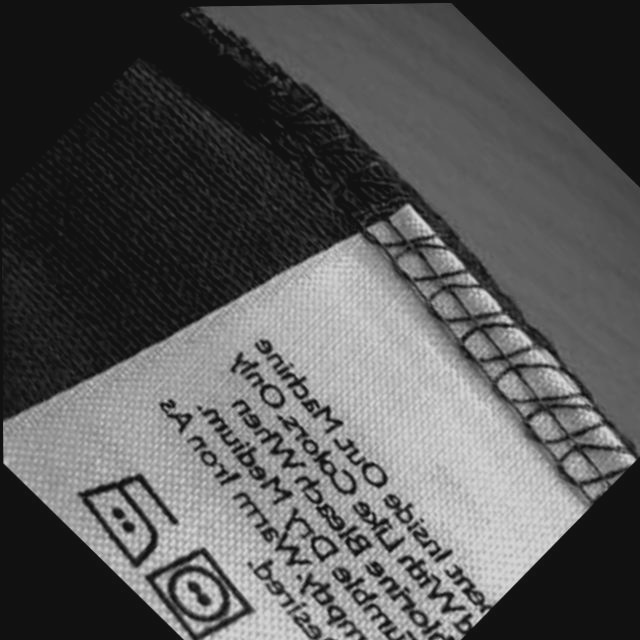iron_medium: (71, 472, 177, 565)
tumble_dry_medium: (142, 549, 252, 638)
